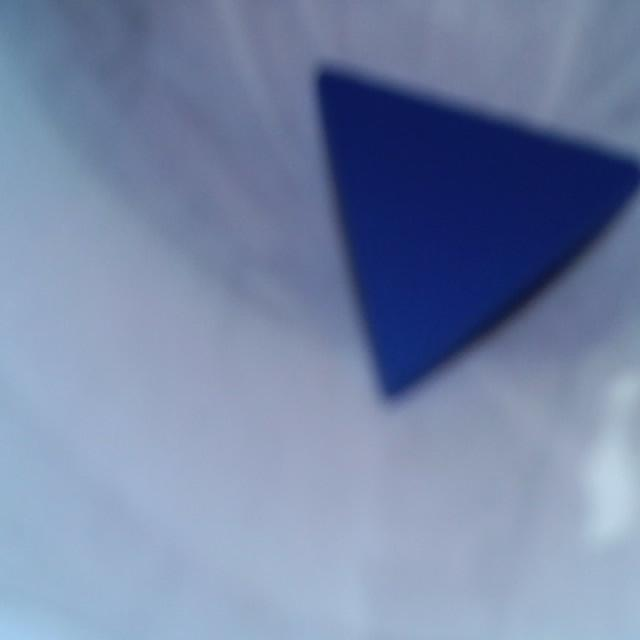triangle: (319, 68, 639, 395)
